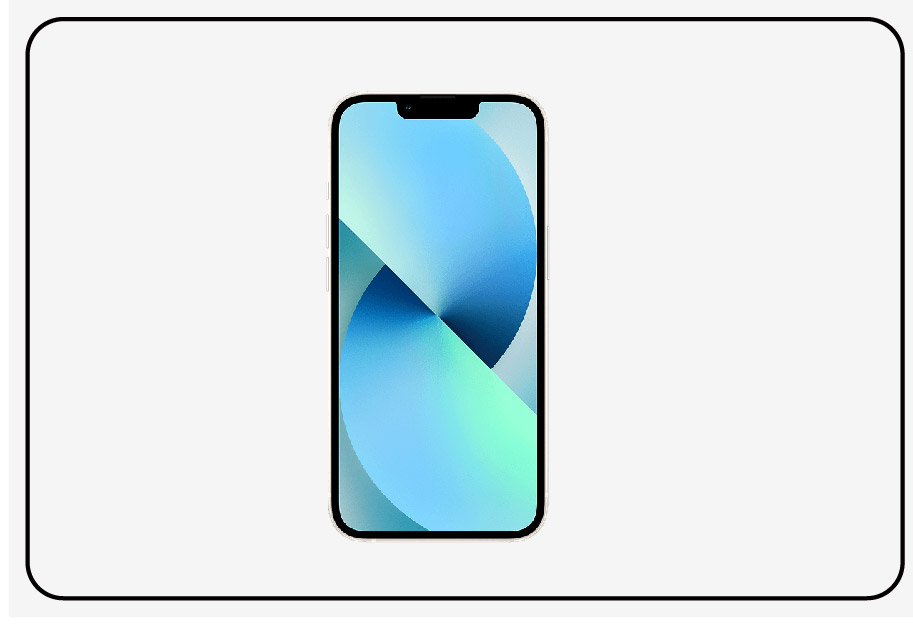phone: (317, 73, 557, 553)
